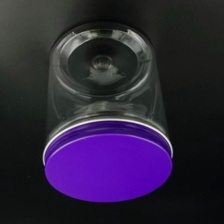plastic_box: (34, 14, 178, 208)
